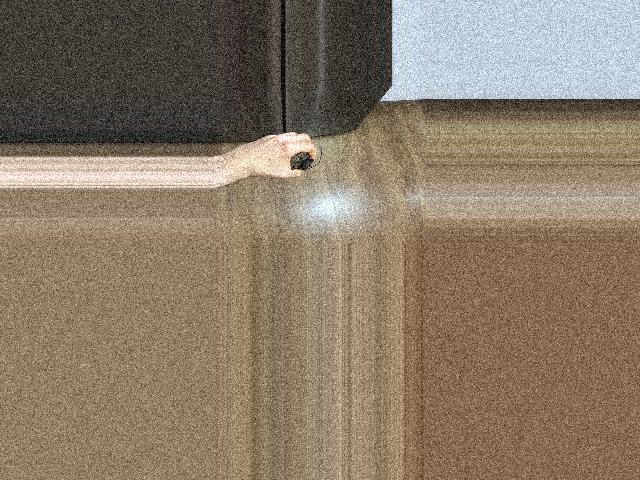beet: (290, 146, 323, 170)
